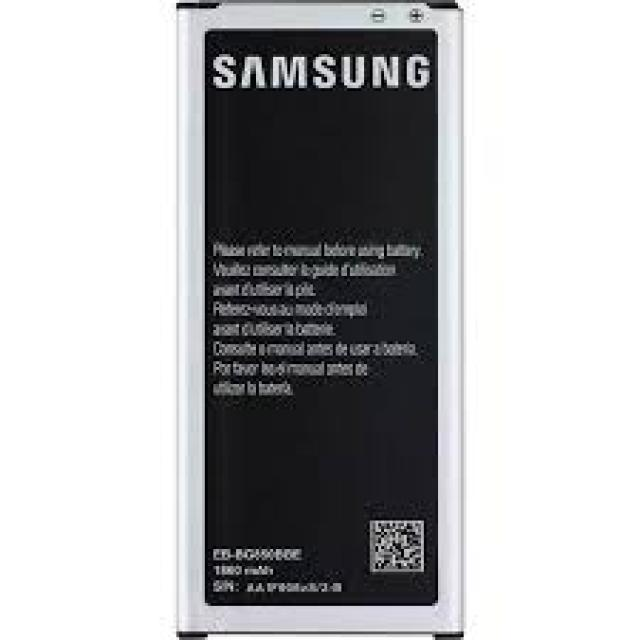Battery: (173, 0, 469, 639)
